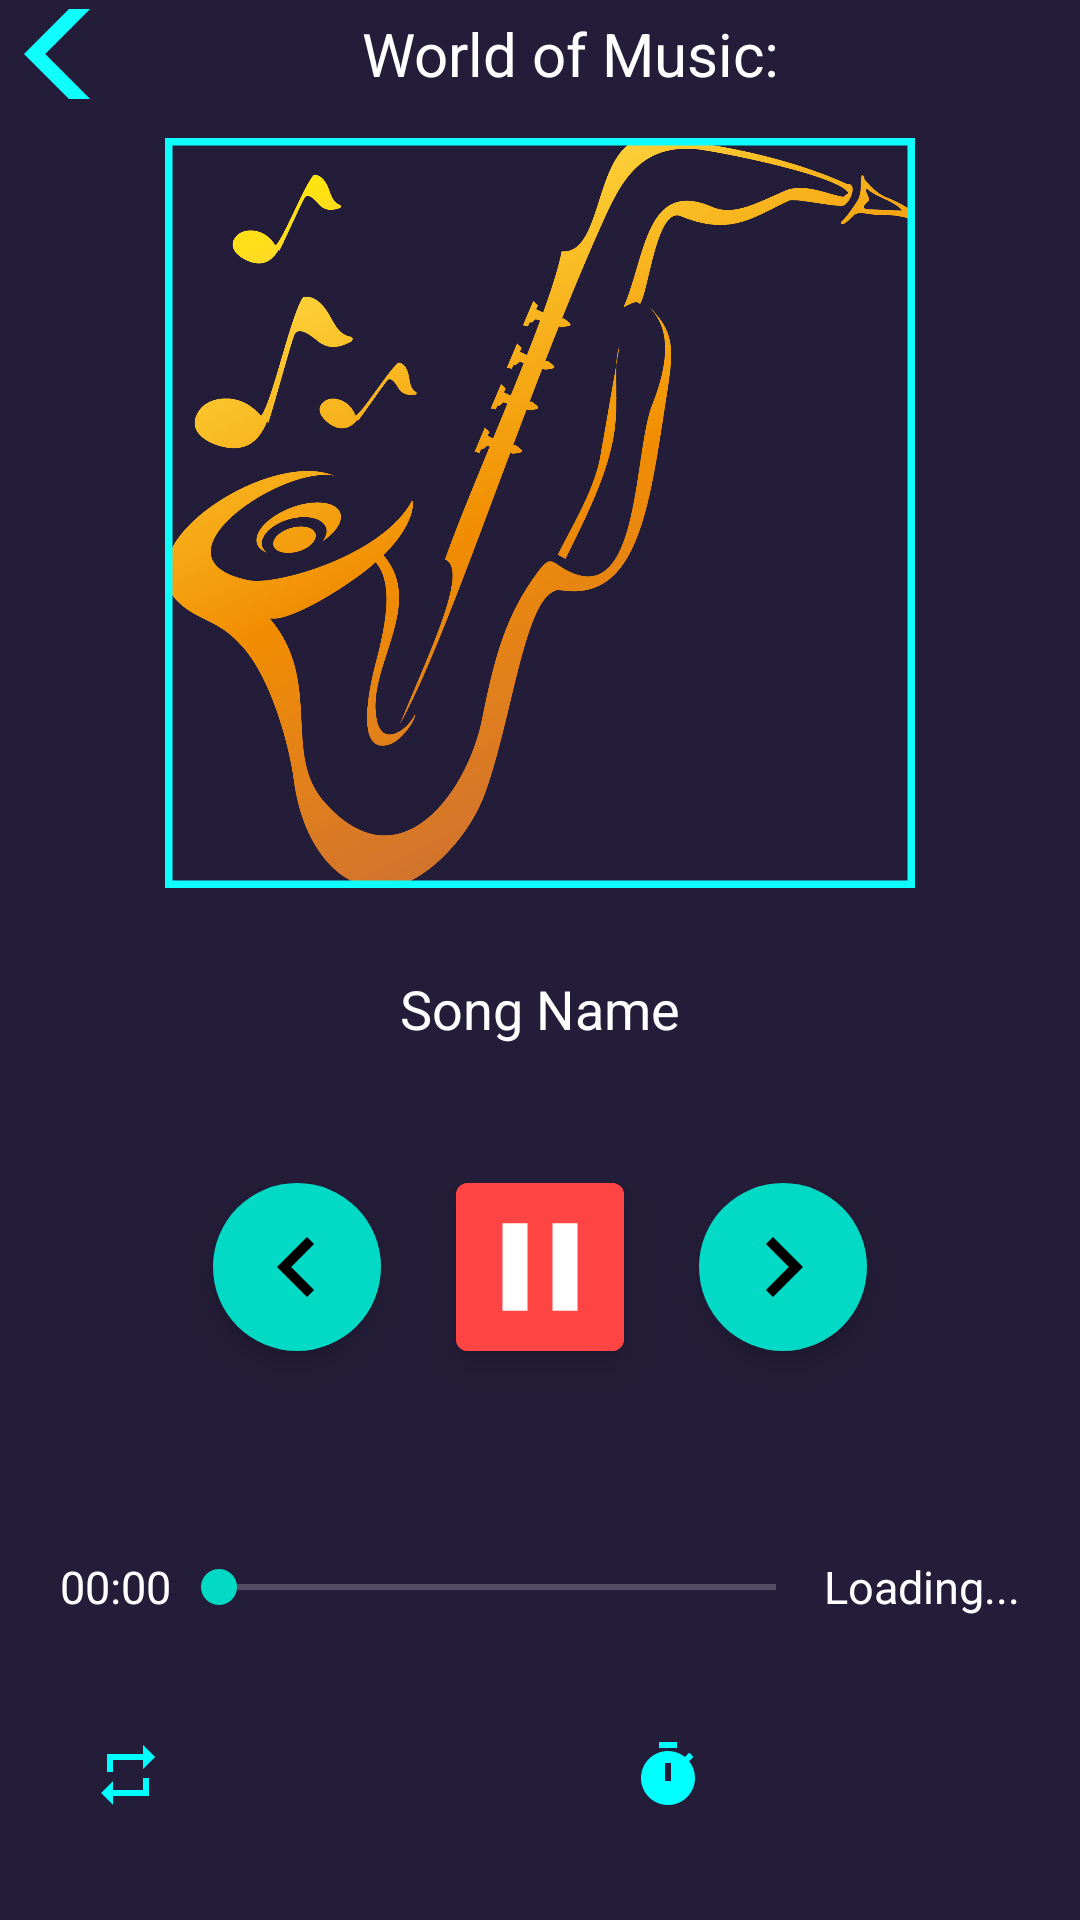

Icon bounding boxes for this 1080 × 1920 phone screenshot, format (x1, y1, x2, y2):
Back: (24, 9, 90, 99)
next: (699, 1183, 867, 1351)
pause: (456, 1183, 624, 1351)
previous: (213, 1183, 381, 1351)
Repeat: (101, 1745, 155, 1805)
Timer: (641, 1742, 695, 1805)
